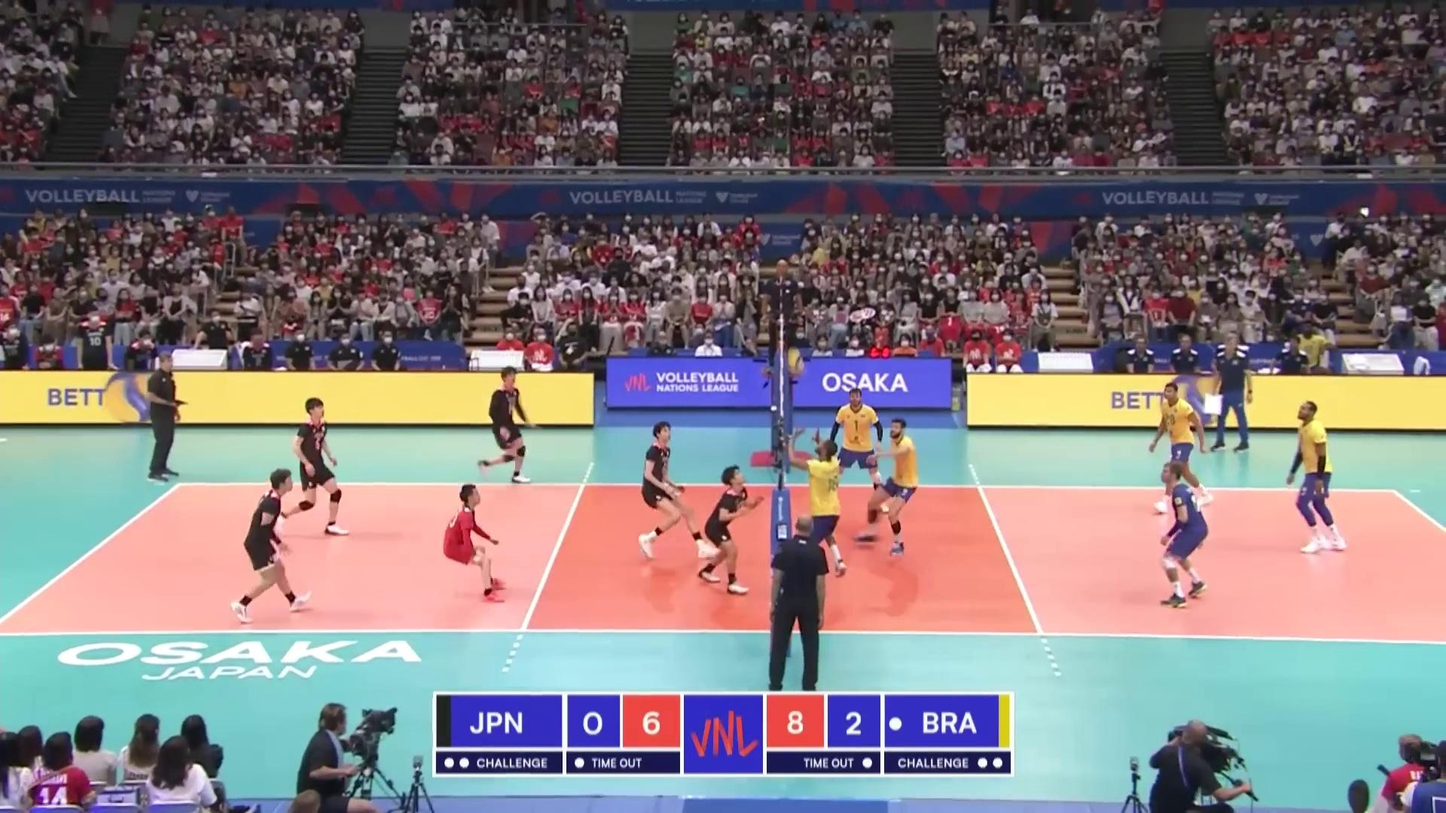player: (232, 471, 316, 624), (641, 423, 715, 561), (1284, 402, 1347, 554), (279, 396, 346, 535), (1149, 463, 1208, 606), (697, 464, 760, 592), (1152, 384, 1213, 513), (445, 486, 512, 602), (860, 421, 916, 557), (796, 436, 846, 586), (827, 387, 885, 509), (478, 367, 531, 483)
refree: (767, 517, 828, 694), (765, 259, 802, 380)
